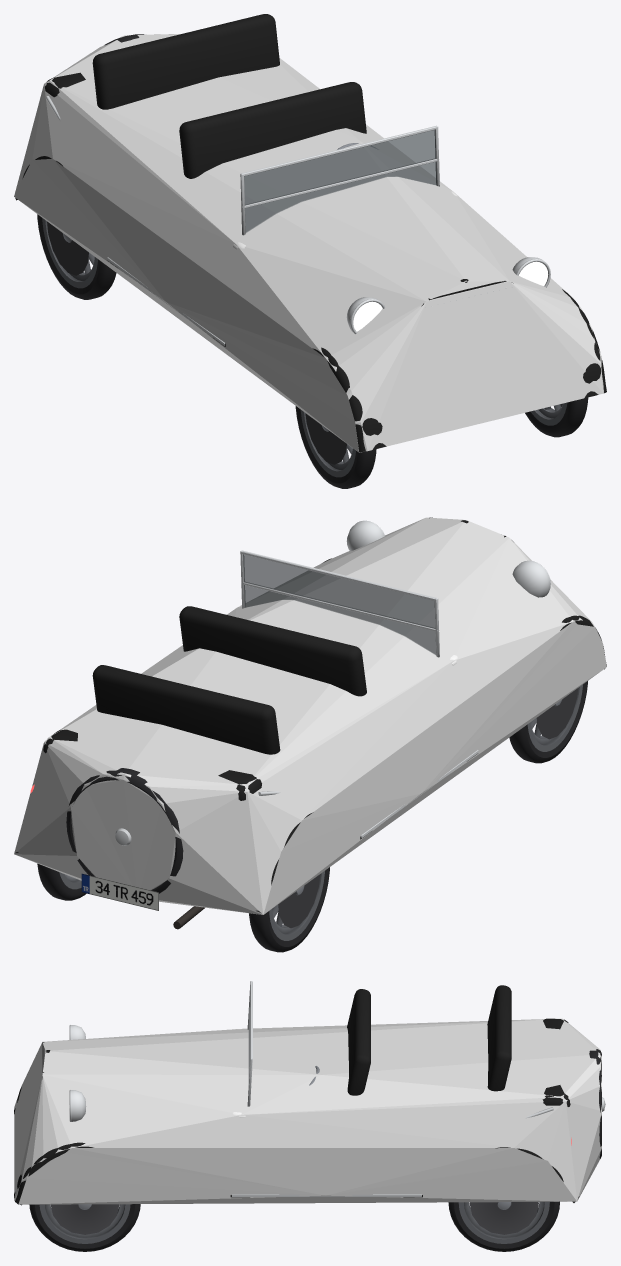
Rendered from bosfor_pera_lod0.glb.
3 views of the same model, one above another, from view 1: azimuth 30°, elevation 25°; view 2: azimuth 150°, elevation 25°; view 3: azimuth 270°, elevation 25° (orthographic). The views are drawn at different scales.
Visible parts, largest first — view 1: col_body, interior, glass, exhaust, trim, wheel_FR, wheel_RR, wheel_FL, brake_RR, brake_FR, lights_front; view 2: col_body, interior, glass, exhaust, trim, wheel_RR, wheel_FR, plate_rear, brake_RR, brake_FR, wheel_RL; view 3: col_body, interior, wheel_RL, wheel_FL, trim, exhaust, brake_RL, brake_FL.
Boxes of the visible parts, <box> form: col_body: <box>14,34,606,452</box>; interior: <box>92,14,366,178</box>; glass: <box>244,130,436,232</box>; exhaust: <box>46,96,550,345</box>; trim: <box>15,34,606,452</box>; wheel_FR: <box>295,406,376,488</box>; wheel_RR: <box>37,214,116,299</box>; wheel_FL: <box>525,397,588,437</box>; brake_RR: <box>47,221,88,275</box>; brake_FR: <box>305,413,346,464</box>; lights_front: <box>353,261,548,331</box>; col_body: <box>14,517,606,914</box>; interior: <box>92,606,366,754</box>; glass: <box>243,554,436,654</box>; exhaust: <box>115,520,550,929</box>; trim: <box>15,517,606,915</box>; wheel_RR: <box>249,867,329,952</box>; wheel_FR: <box>509,681,587,763</box>; plate_rear: <box>81,873,158,910</box>; brake_RR: <box>278,874,320,928</box>; brake_FR: <box>536,688,578,739</box>; wheel_RL: <box>37,863,86,900</box>; col_body: <box>14,1018,601,1204</box>; interior: <box>347,985,511,1095</box>; wheel_RL: <box>448,1201,559,1251</box>; wheel_FL: <box>29,1204,140,1251</box>; trim: <box>14,1018,601,1205</box>; exhaust: <box>69,981,605,1196</box>; brake_RL: <box>469,1202,538,1234</box>; brake_FL: <box>50,1204,119,1234</box>.
Bounding box in the file's own units: 1.71 × 1.5 × 4.24.
Materials: 11 (1 with a texture image).
